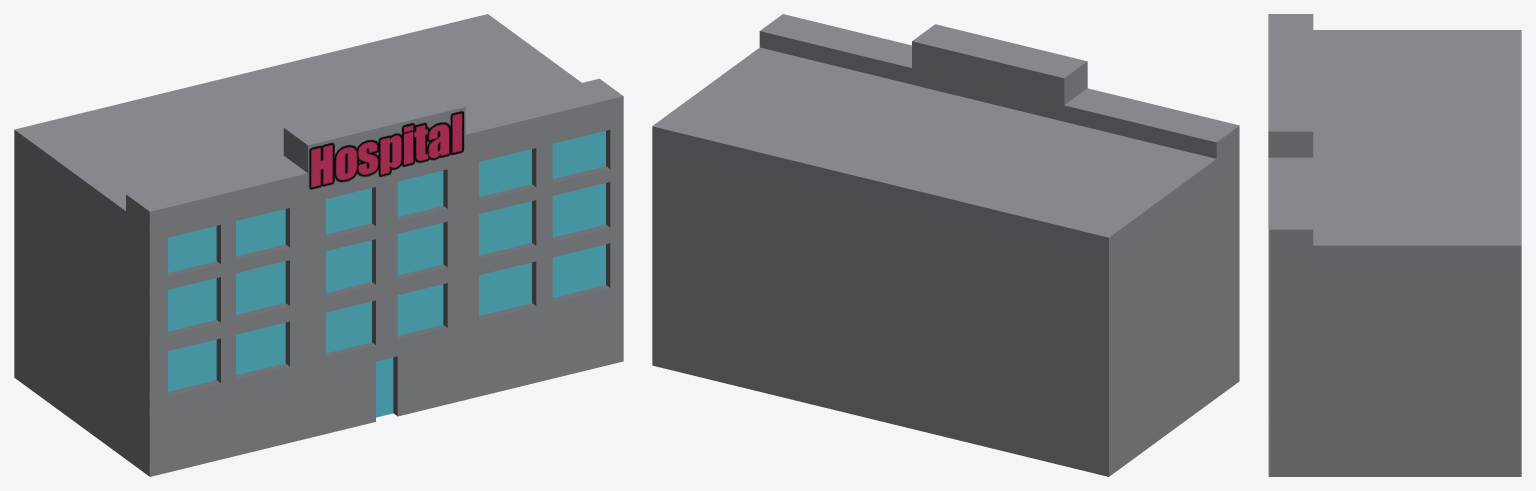
Rendered from hospital.fbx.
3 views of the same model, side by side, from view 1: azimuth 30°, elevation 25°; view 2: azimuth 150°, elevation 25°; view 3: azimuth 270°, elevation 25° (orthographic). The views are drawn at different scales.
Visible parts, largest first — view 1: pCube1; view 2: pCube1; view 3: pCube1.
Part boxes in pixels (<box>): pCube1: <box>14,14,623,476</box>; pCube1: <box>652,14,1239,476</box>; pCube1: <box>1268,14,1521,476</box>.
Size of the model in its own units: 120 by 70.86 by 59.46.
Materials: 1 (1 with a texture image).
